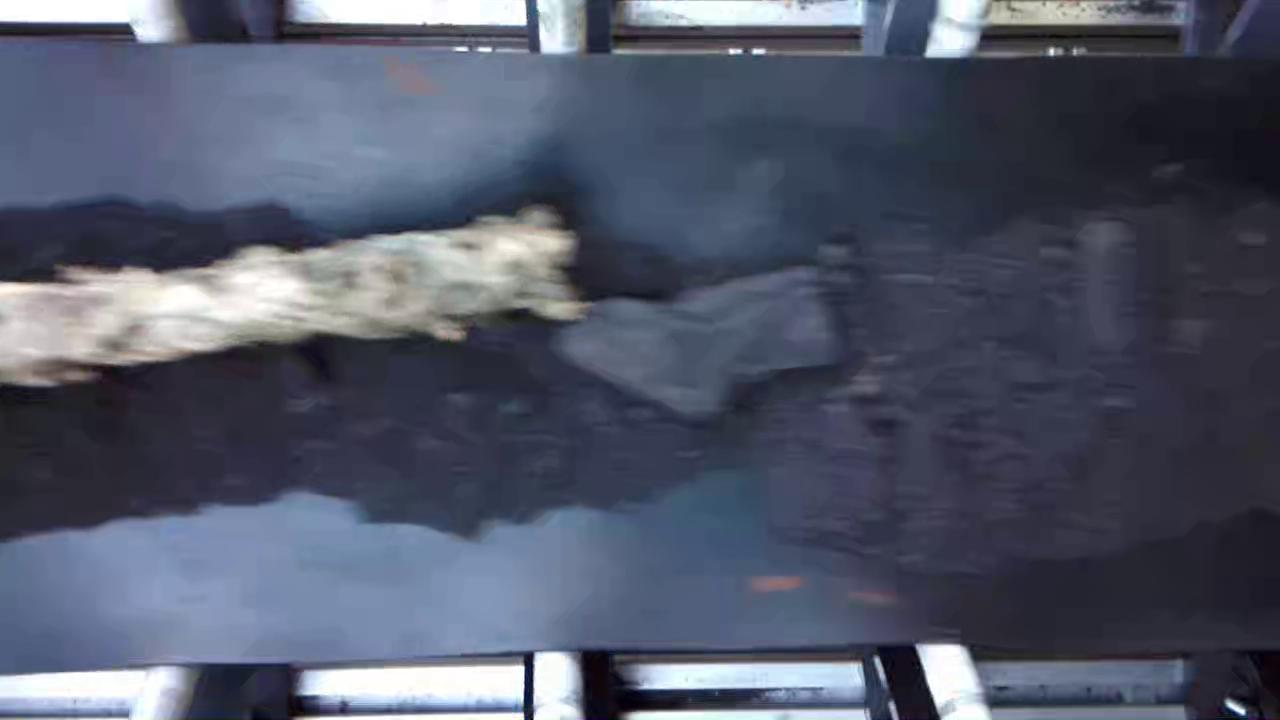conveyor: (1, 62, 1280, 642)
